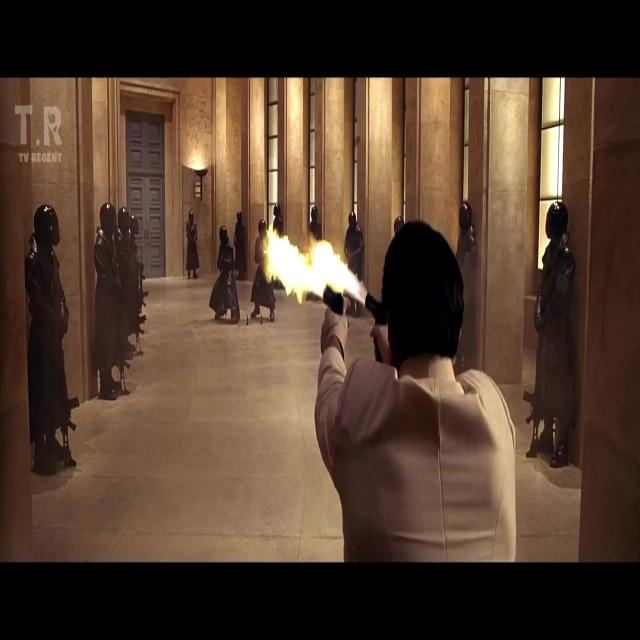Weapon: (310, 282, 348, 361), (366, 290, 391, 366)
